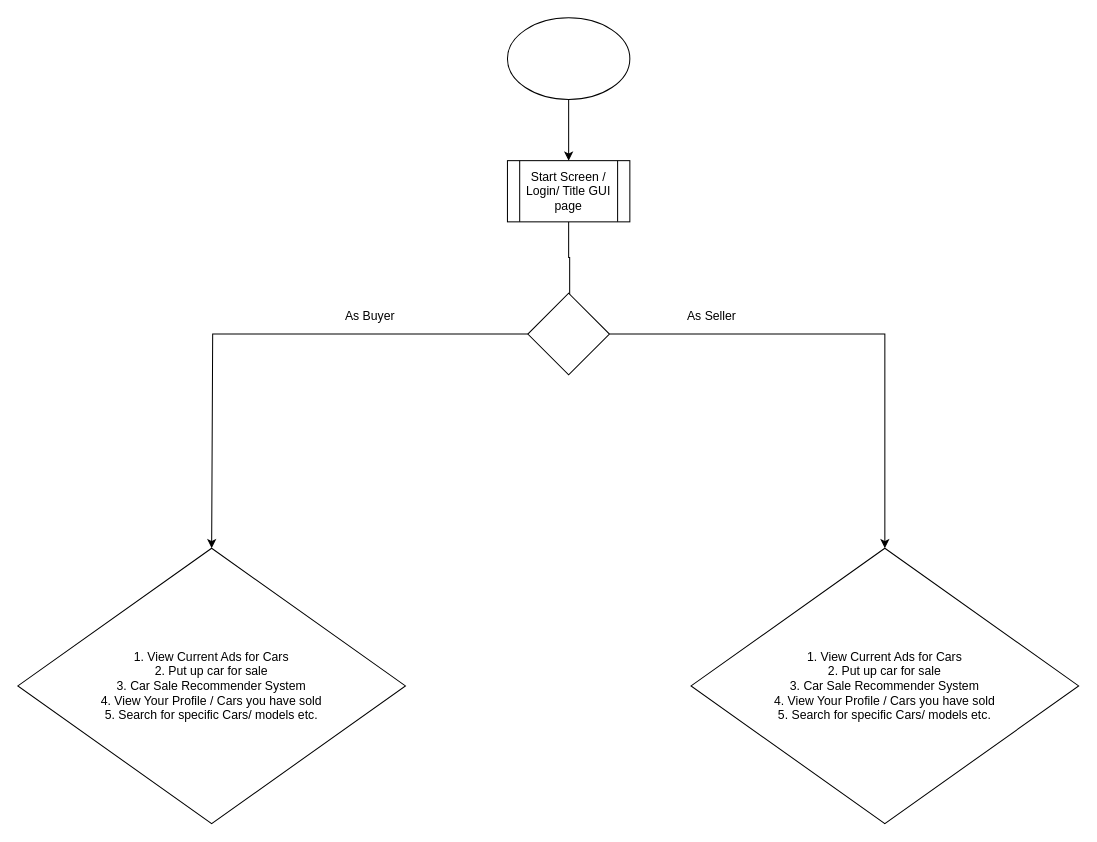
This 1097x842 diagram has some shape labels left out. Here are the shapes that lost their labels. From the top down, the centre of each, then its label:
the point at 568,58: START
the point at 568,333: Login / Register
